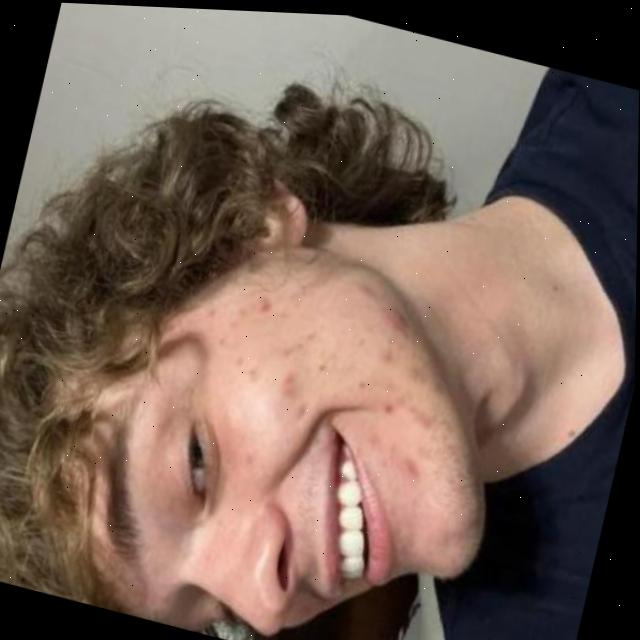Acne: (180, 242, 490, 488)
